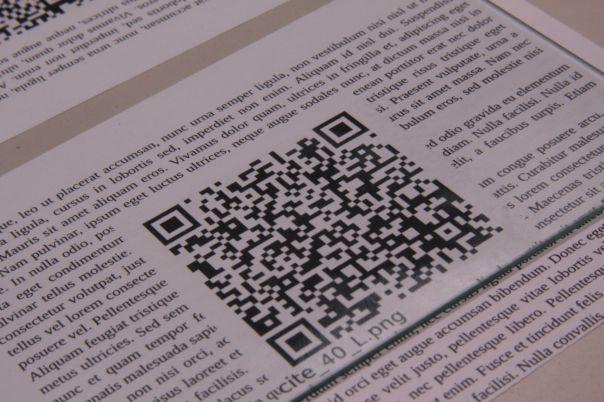qr_code: (143, 110, 506, 367)
